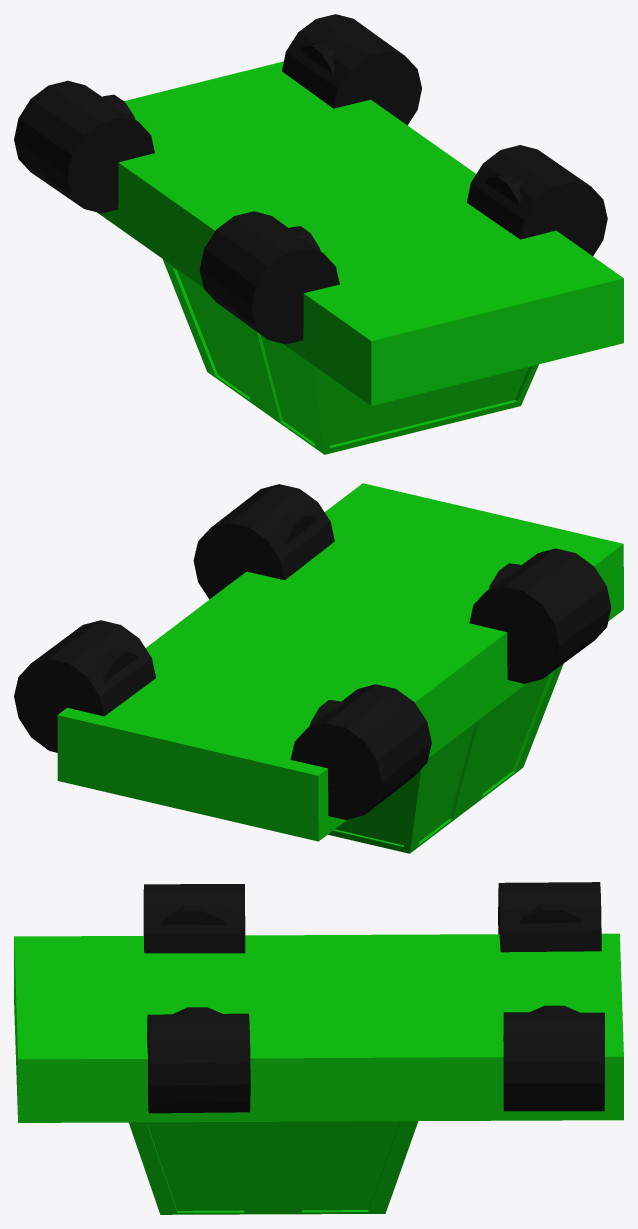
File: CarWithColour.obj
3 views of the same model, one above another, from view 1: azimuth 30°, elevation 25°; view 2: azimuth 150°, elevation 25°; view 3: azimuth 270°, elevation 25° (orthographic). The views are drawn at different scales.
Parts seen in each view (by area): view 1: Cube, Cylinder, Cylinder.001; view 2: Cube, Cylinder, Cylinder.001; view 3: Cube, Cylinder, Cylinder.001.
Boxes of the visible parts, <box> form: Cube: <box>97,61,623,454</box>; Cylinder: <box>14,14,607,344</box>; Cylinder.001: <box>100,42,521,250</box>; Cube: <box>57,483,623,853</box>; Cylinder: <box>14,484,611,819</box>; Cylinder.001: <box>101,512,523,726</box>; Cube: <box>14,933,623,1214</box>; Cylinder: <box>143,882,604,1113</box>; Cylinder.001: <box>162,903,583,1014</box>.
Bounding box in the file's own units: 5.98 × 3.41 × 8.8.
